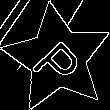P_NE: (27, 27, 88, 89)
